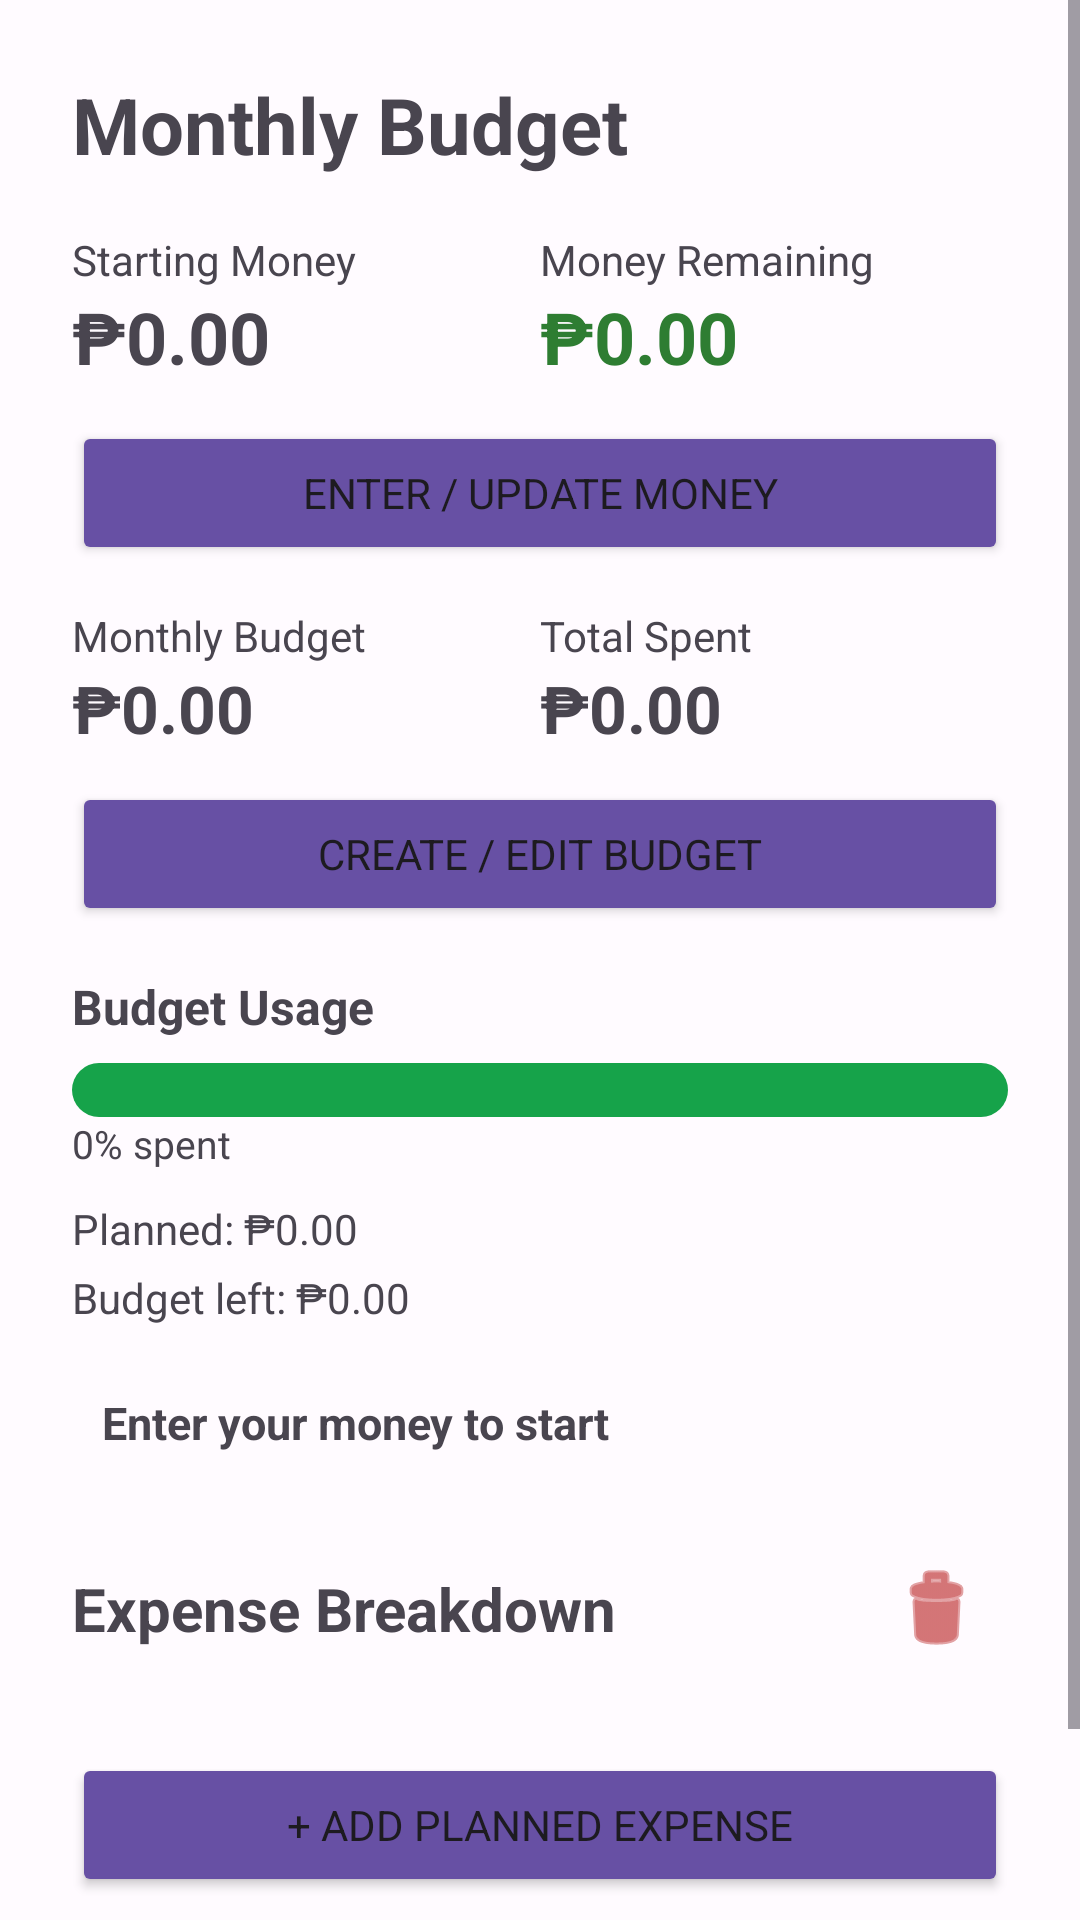

Point at icon controls on the screen. Image size 1080w x 1920h, points as (x,y).
Delete selected planned expenses: (936,1607)
